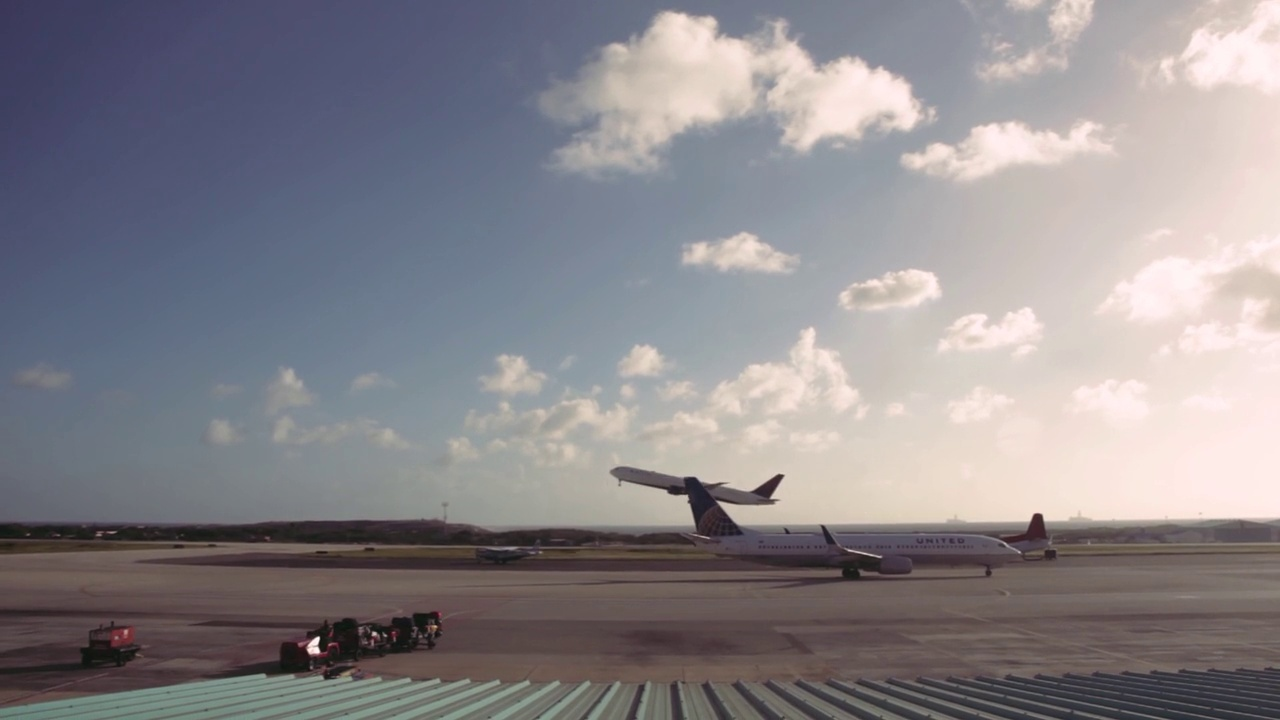plane: (680, 474, 1023, 578), (608, 462, 784, 507), (467, 542, 542, 564)
